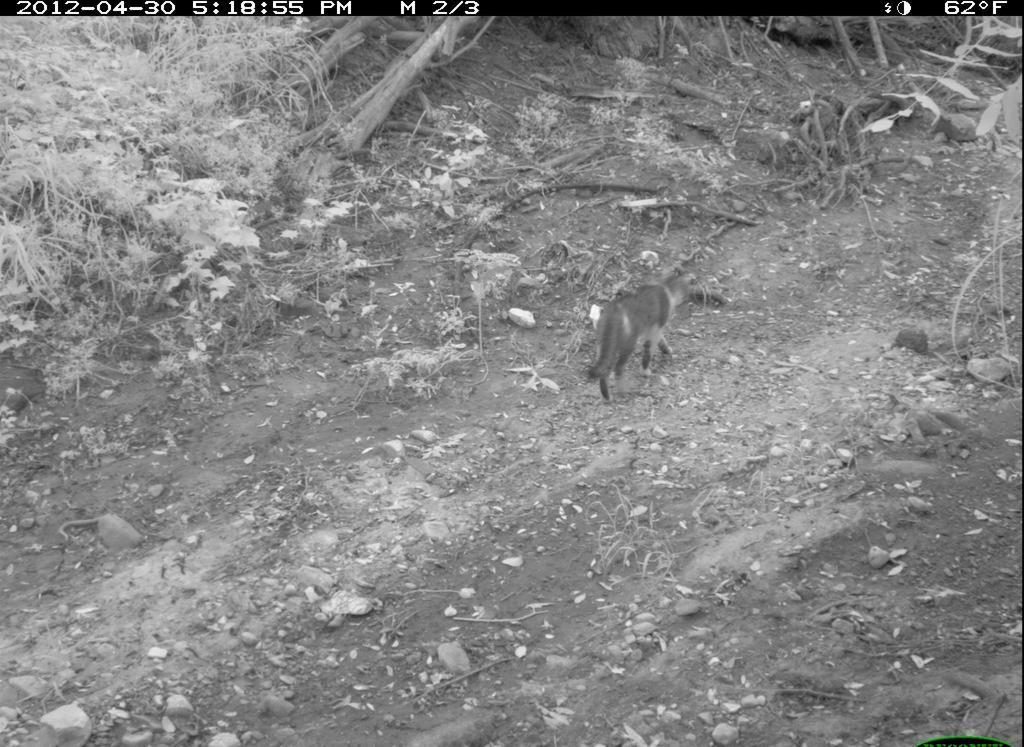cat: (579, 258, 713, 411)
